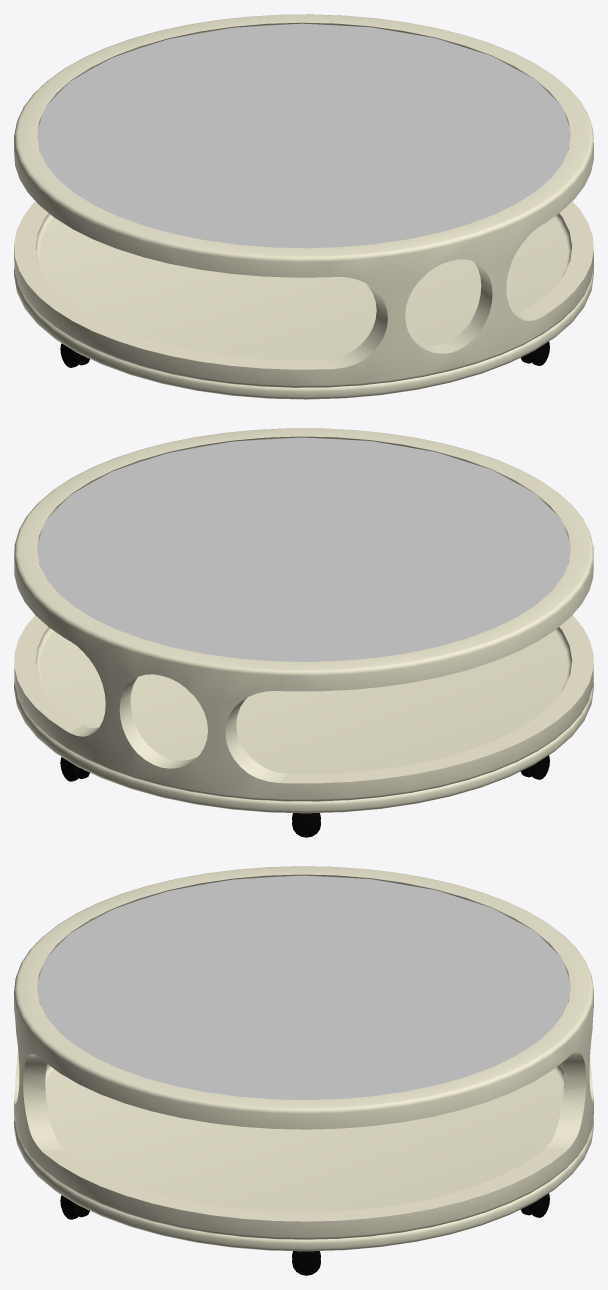
Rendered from CoffeeTable.fbx.
3 views of the same model, one above another, from view 1: azimuth 30°, elevation 25°; view 2: azimuth 150°, elevation 25°; view 3: azimuth 270°, elevation 25° (orthographic).
Visible parts, largest first — view 1: Body, Glass_top_3; view 2: Body, Glass_top_3, Wheel_4; view 3: Body, Glass_top_3, Wheel_3.
Part boxes in pixels (left/top/right/bottom): Body: left=14, top=14, right=593, bottom=399; Glass_top_3: left=37, top=23, right=570, bottom=248; Body: left=14, top=428, right=593, bottom=813; Glass_top_3: left=37, top=437, right=570, bottom=661; Wheel_4: left=292, top=813, right=320, bottom=837; Body: left=14, top=866, right=593, bottom=1251; Glass_top_3: left=37, top=875, right=570, bottom=1099; Wheel_3: left=292, top=1251, right=320, bottom=1275.
Size of the model in its own units: 7.49 by 2.46 by 7.49.
